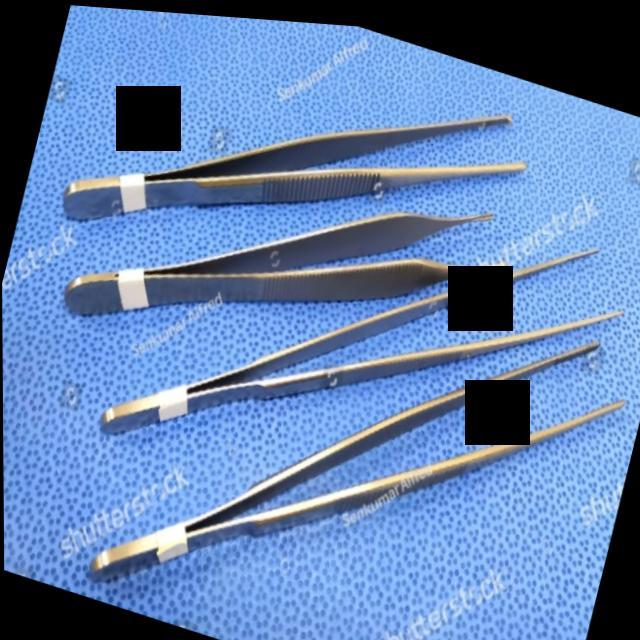Disscting Forceps -Plain-: (92, 98, 640, 575), (82, 195, 640, 640), (58, 74, 534, 439), (43, 2, 538, 324)
